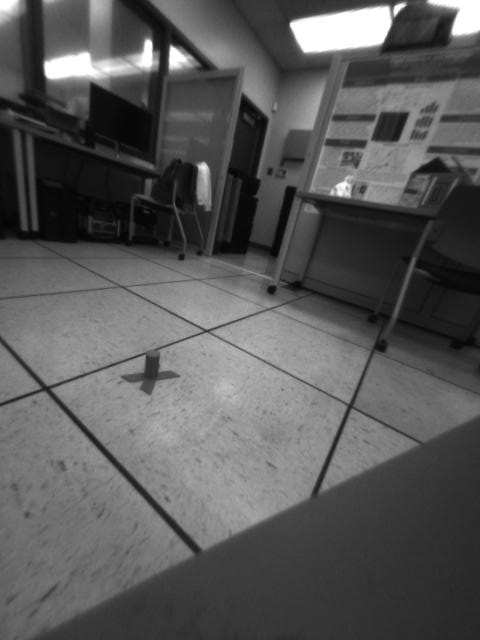X: (120, 349, 181, 398)
